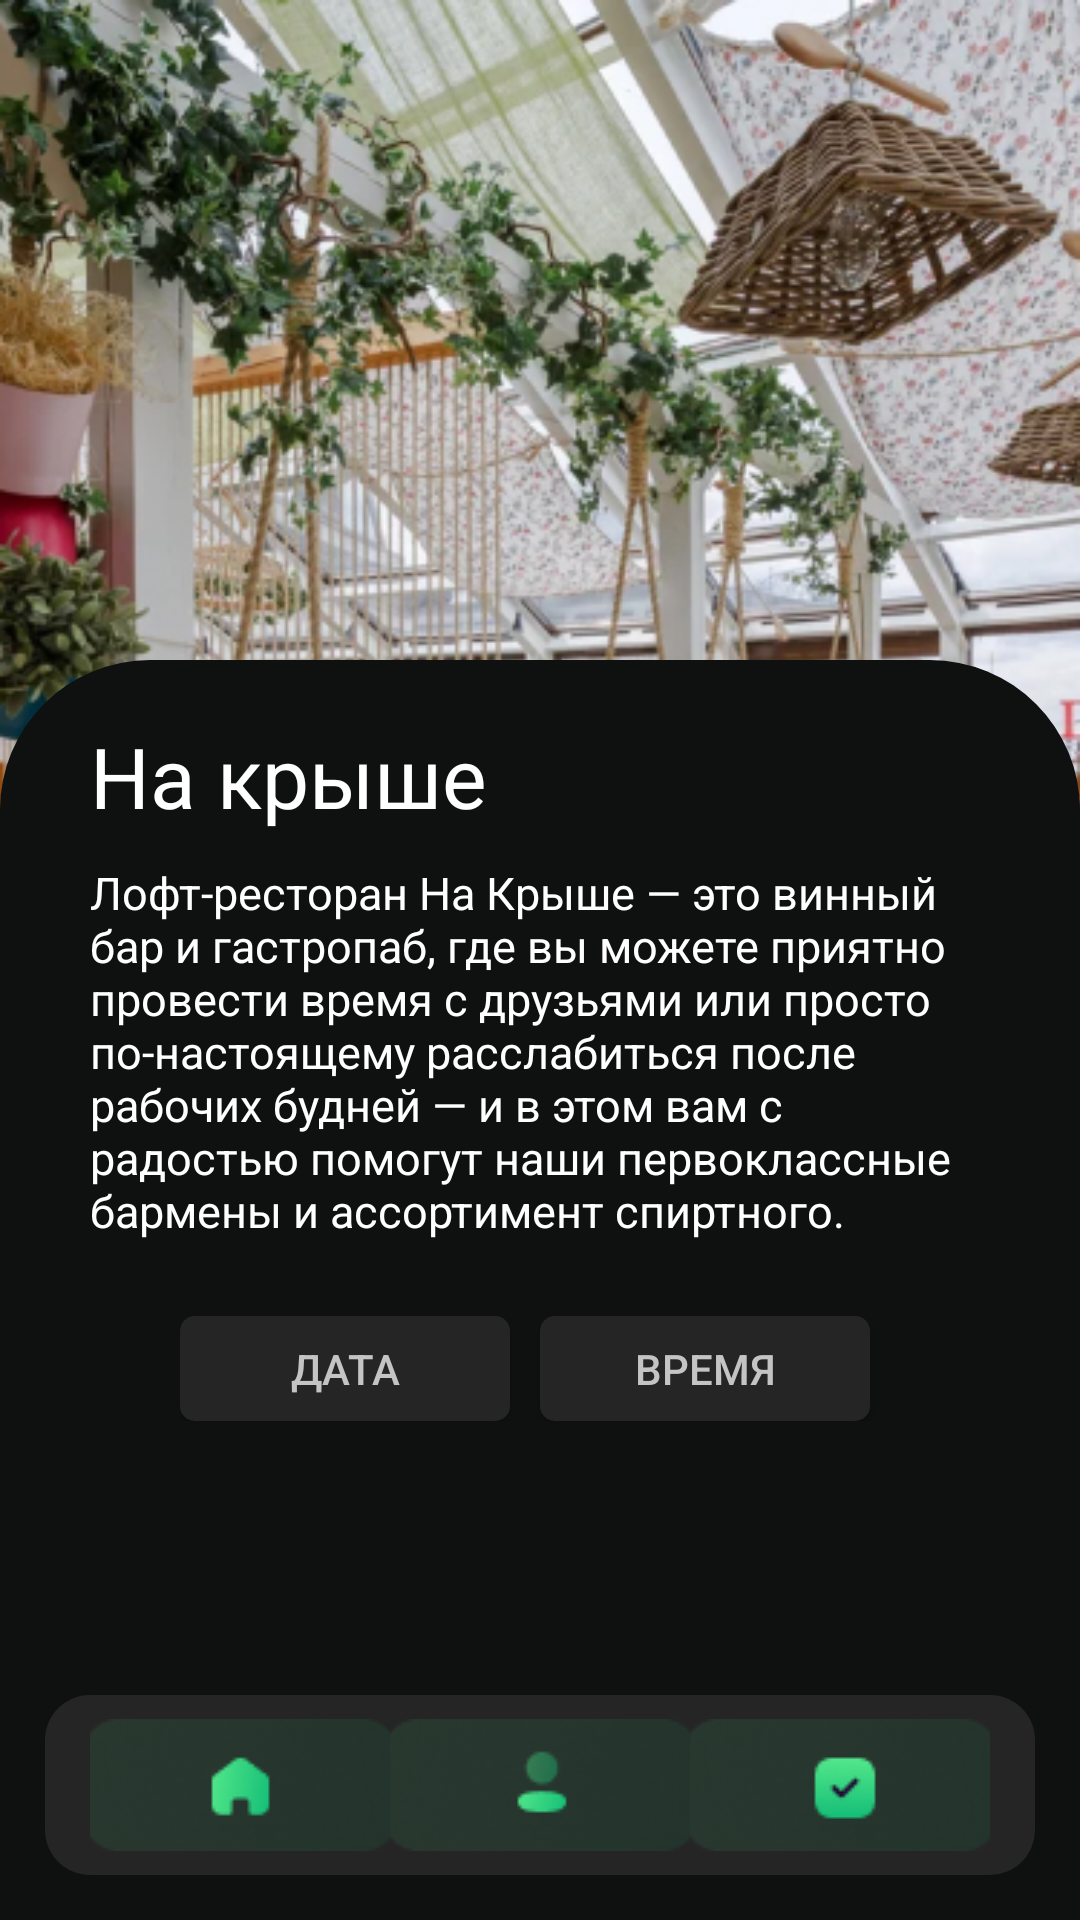

Where icons sit on this 1080w x 1920h app screen, as box(x1, y1, x2, y2):
checks passive: box(814, 1757, 876, 1819)
home passive: box(211, 1757, 270, 1816)
person passive: box(517, 1751, 567, 1813)
